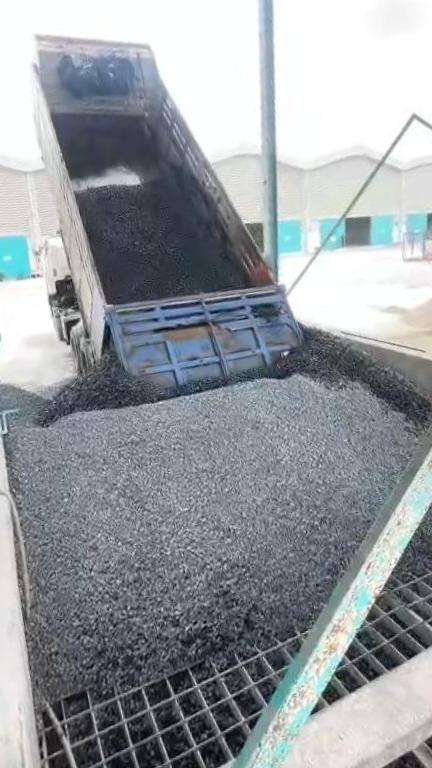gravel: (0, 325, 432, 697), (78, 180, 245, 301), (403, 437, 432, 572)
sand: (354, 291, 432, 359)
